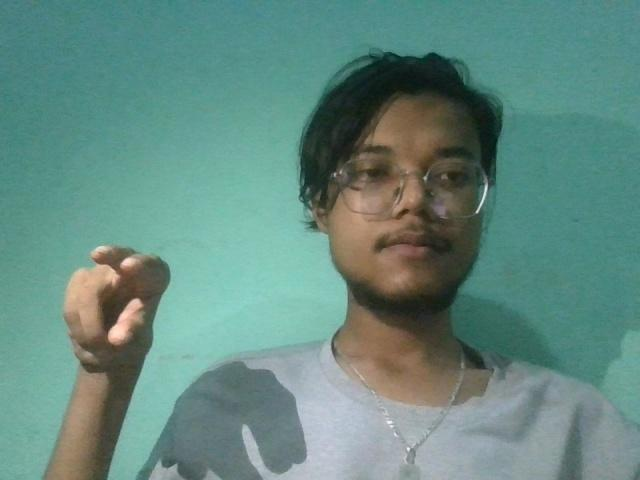No: (51, 233, 182, 388)
